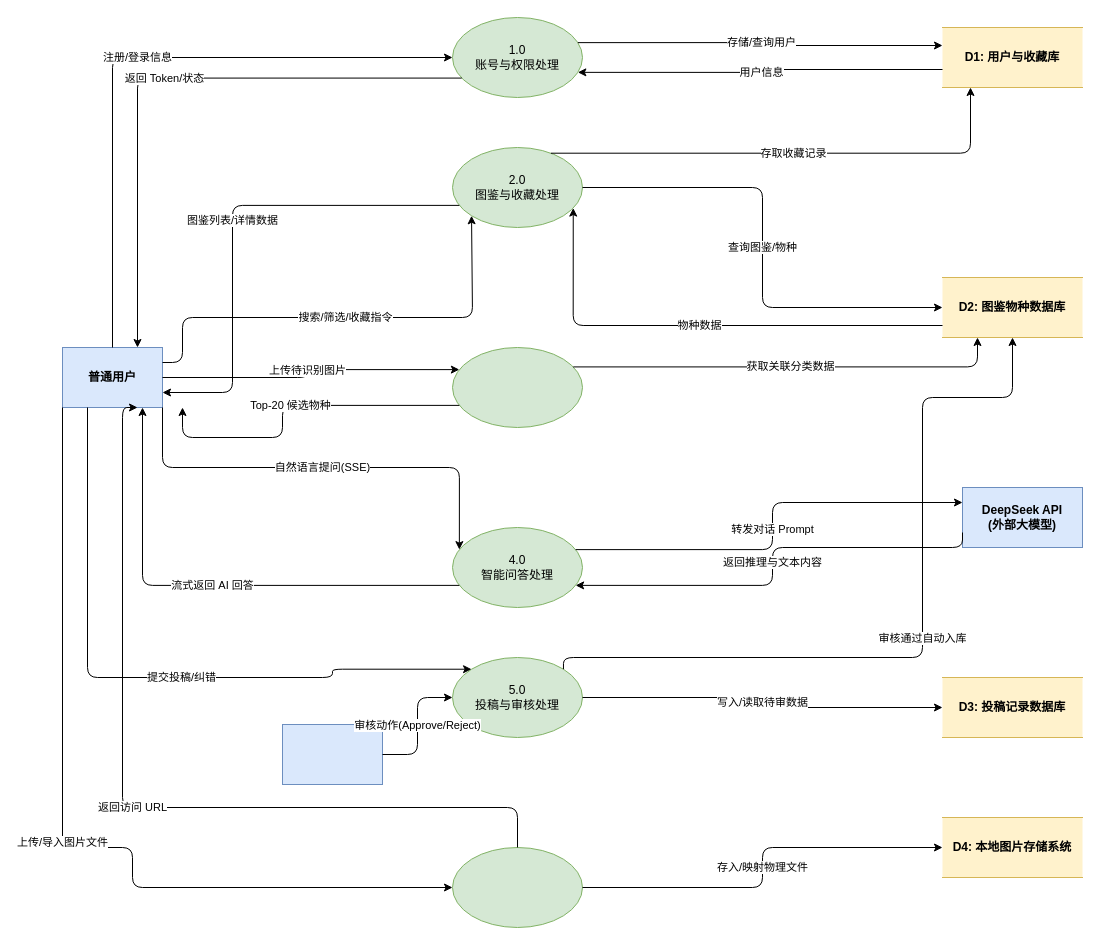
The diagram is 1100 pixels wide and 945 high, and some of its shapes have lost their labels. The centre of each missing label's shape, as x and y in pixels:
3.0 图像智能识别处理: pixel 517 387
6.0 图片资源处理: pixel 517 887
管理员/编辑: pixel 332 754
